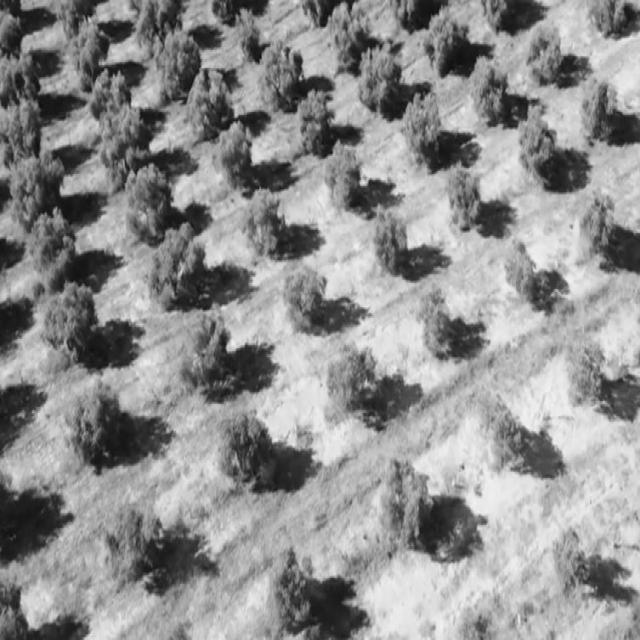trees: (68, 375, 124, 479), (473, 378, 531, 474), (44, 272, 98, 370), (176, 308, 231, 402), (547, 511, 602, 604), (146, 225, 204, 313), (566, 184, 625, 268), (120, 157, 173, 248), (11, 142, 64, 230), (378, 457, 432, 537), (112, 492, 159, 583), (288, 86, 339, 168), (218, 406, 268, 485), (568, 328, 616, 410), (281, 255, 329, 336), (238, 178, 286, 259), (28, 216, 78, 292), (372, 220, 416, 306), (322, 133, 366, 218), (153, 28, 200, 106), (500, 232, 544, 313), (100, 101, 145, 180), (466, 52, 514, 126), (398, 91, 446, 164), (271, 550, 315, 629), (1, 94, 46, 168), (328, 336, 372, 411), (259, 38, 303, 112), (424, 10, 469, 81), (186, 65, 227, 142), (328, 0, 369, 75), (214, 117, 253, 193), (70, 23, 114, 90), (524, 19, 565, 90), (88, 59, 134, 122), (576, 71, 619, 138), (442, 163, 486, 228), (416, 288, 454, 358), (360, 44, 402, 105), (0, 46, 44, 104), (519, 118, 559, 180)
